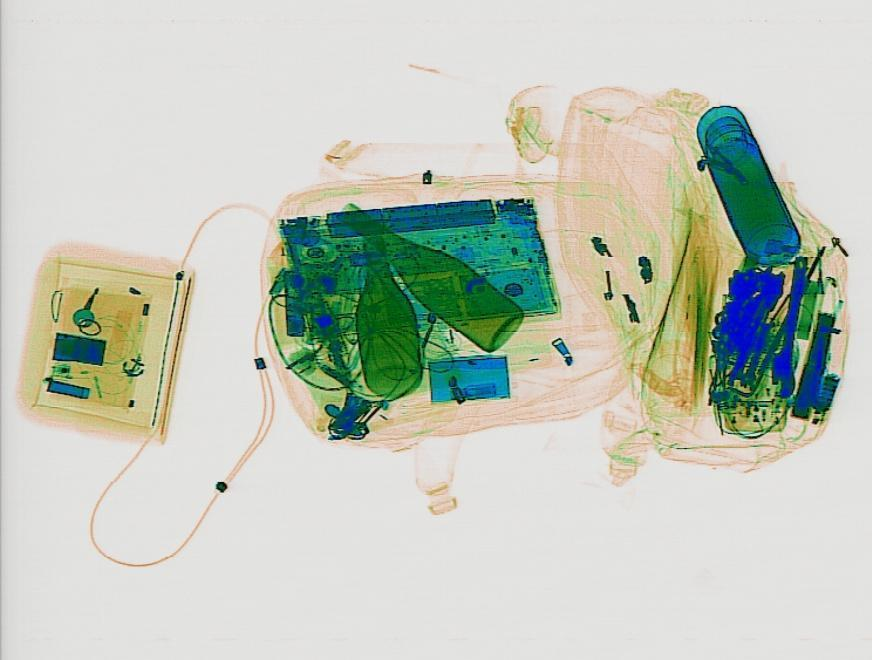Wrench: (766, 255, 814, 397), (723, 339, 756, 386)
